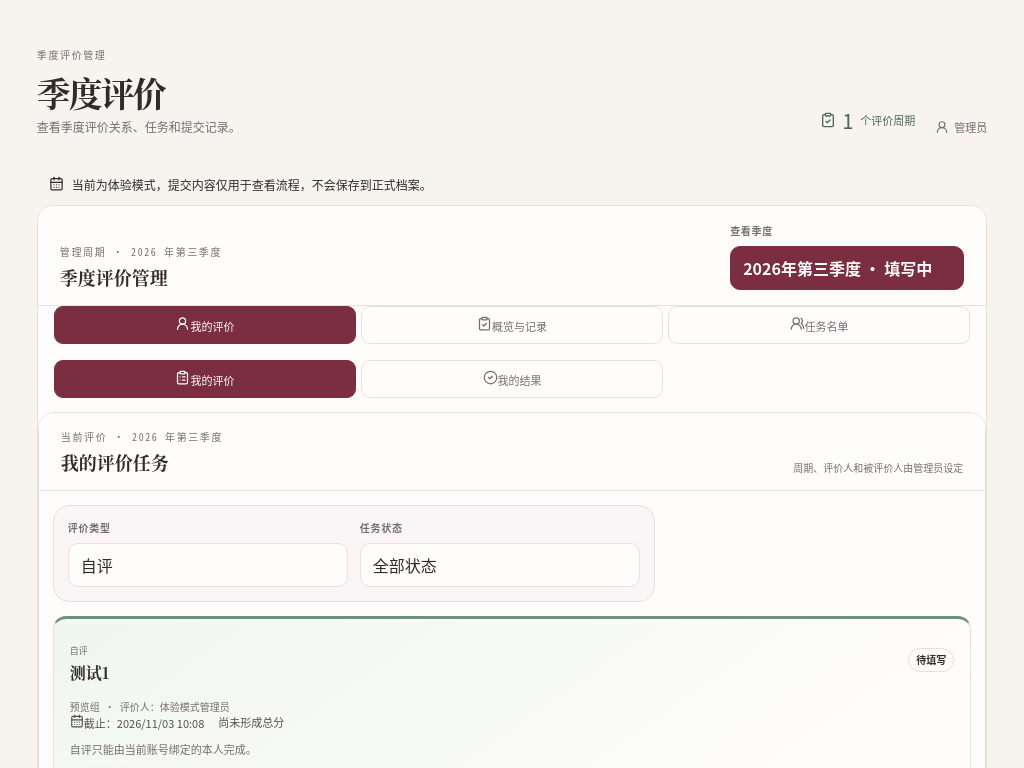
Test: QuarterlyAssessmentsPage › allows retrying a failed employee history read
Step 1. Click the button "概览与记录" → (512, 325), box [361,306,663,344]
(page scrolled)
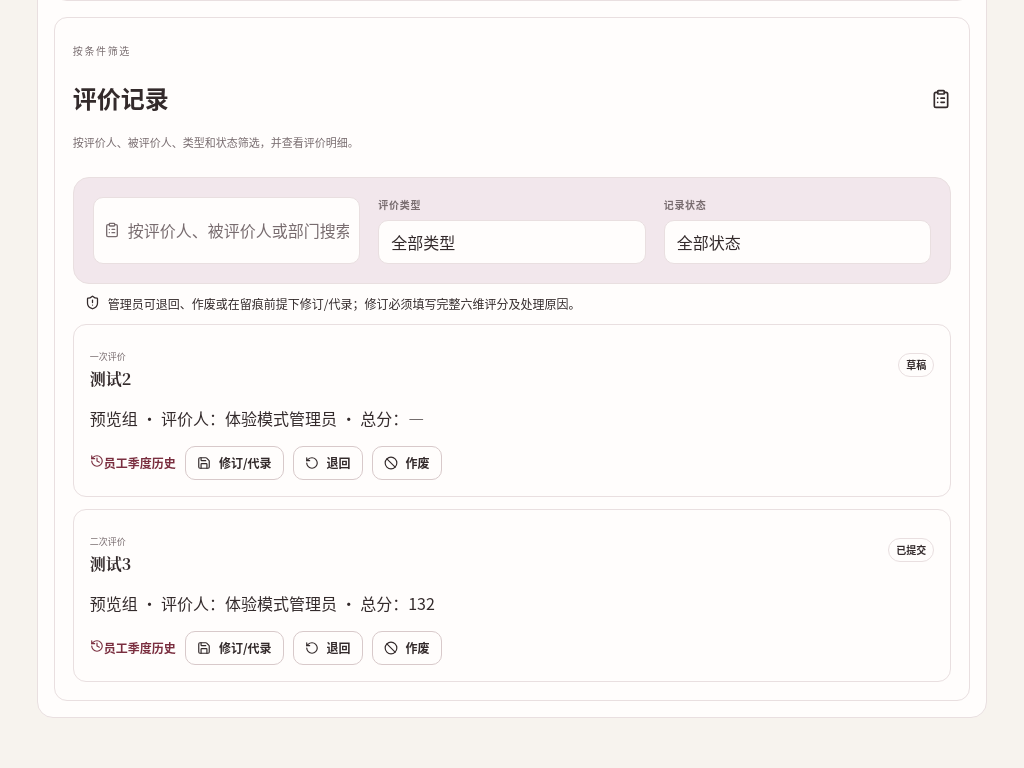
Step 2. Click the button "员工季度历史" below "测试2" → (133, 462), box [90,446,176,480]
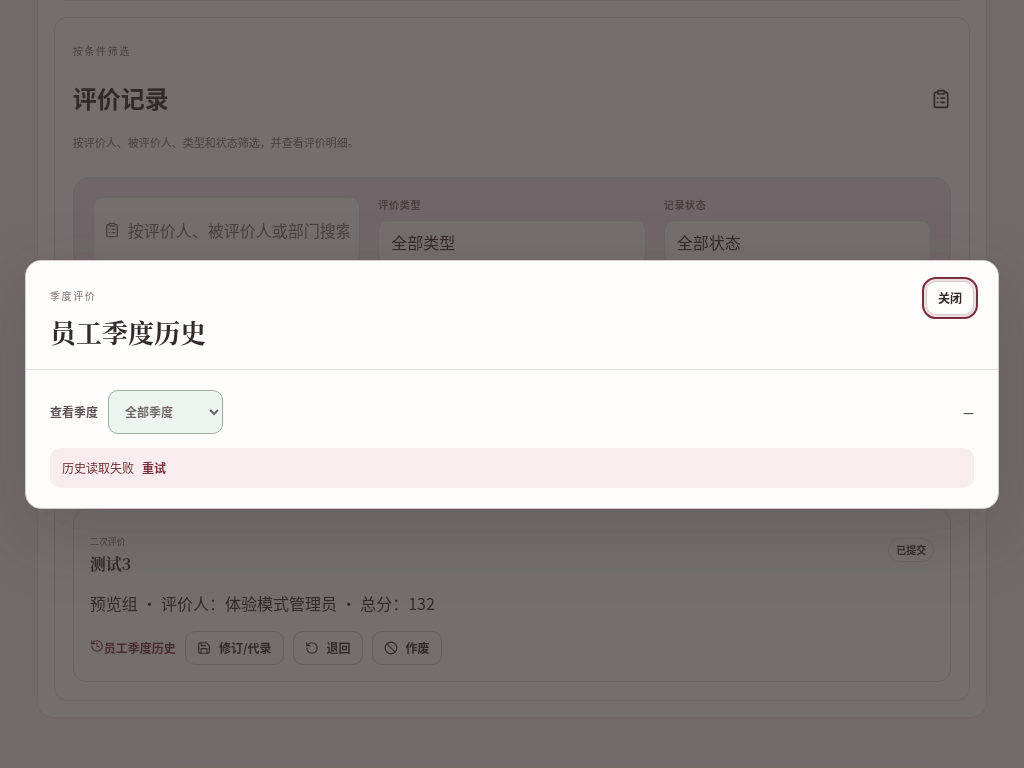
Expected: the message "历史读取失败 重试" is shown, [50,448,974,488]
Expected: the dropdown named "查看季度" is disabled, [108,390,223,434]
Expected: the text "—" is shown, [963,403,974,420]
Step 3. Click the button "重试" → (154, 468), box [142,458,166,476]
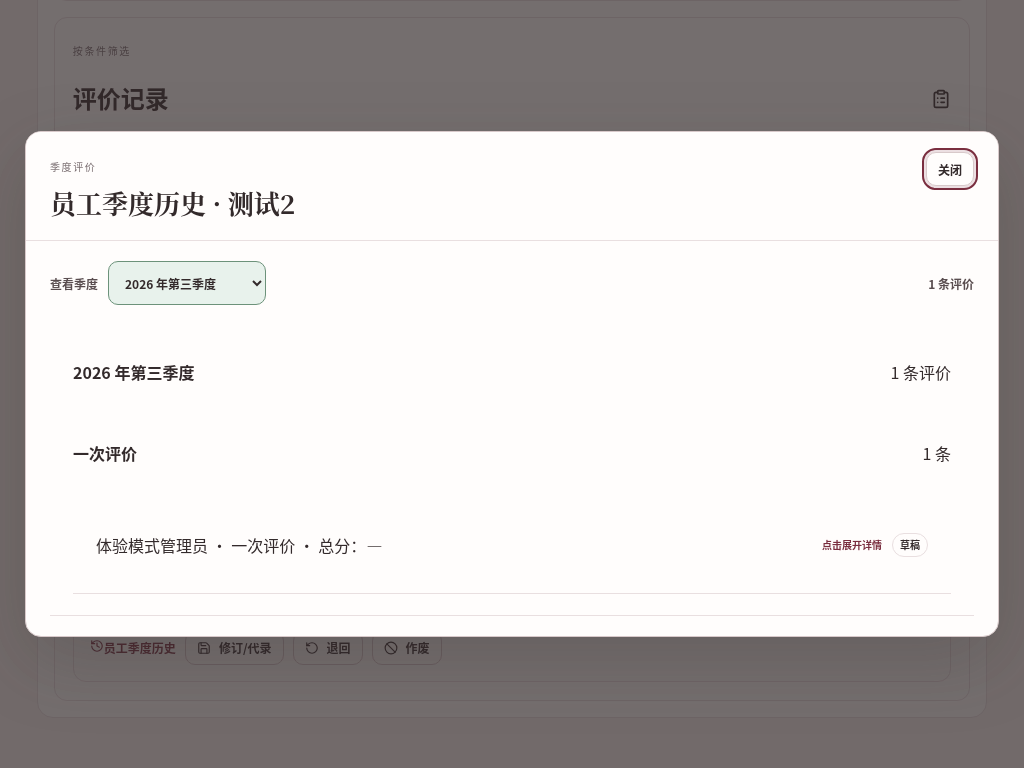
Expected: the dialog shows "总分", [295,532,366,556]
Expected: the dropdown named "查看季度" is enabled, [108,262,266,306]
Expected: the text "—" is gone
